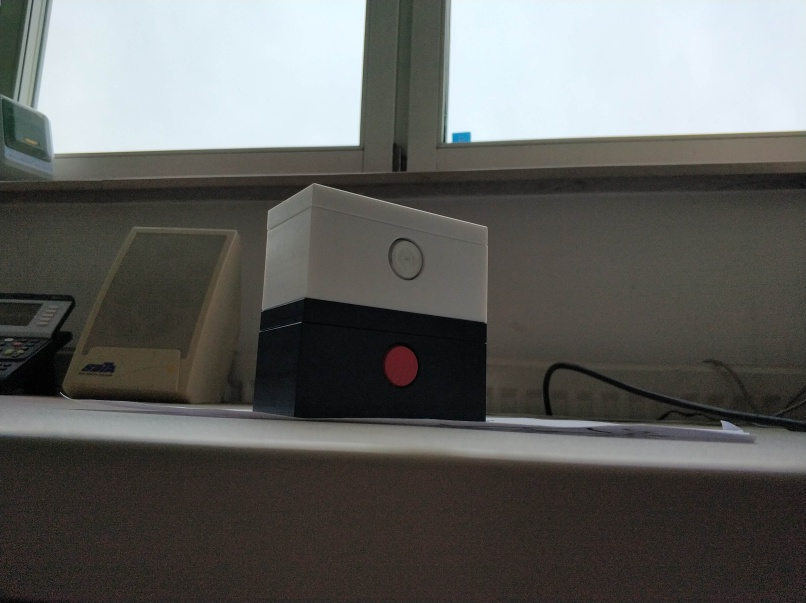black+black+red: (251, 294, 492, 424)
white+white+silver: (258, 184, 491, 325)
